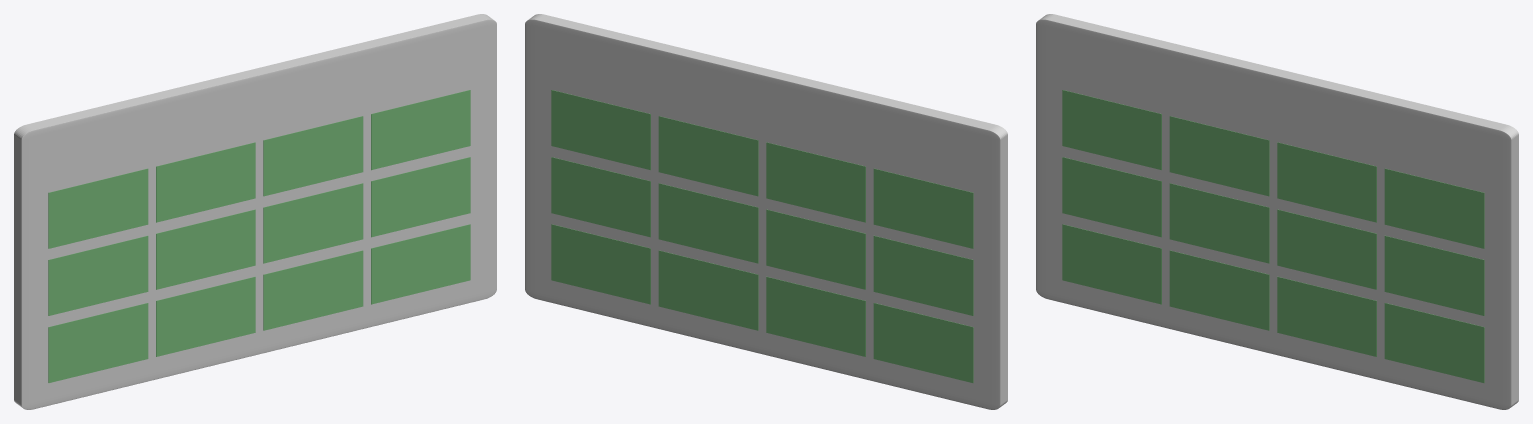
File: 41-Table Storage.glb
3 renders of one model, left to right at view 1: azimuth 30°, elevation 25°; view 2: azimuth 150°, elevation 25°; view 3: azimuth 330°, elevation 25°, orthographic.
Visible parts, largest first — view 1: Mesh_Mesh_head_geo.001_lambert2SG.001; view 2: Mesh_Mesh_head_geo.001_lambert2SG.001; view 3: Mesh_Mesh_head_geo.001_lambert2SG.001.
Part boxes in pixels (x1,y1,x2,y2): Mesh_Mesh_head_geo.001_lambert2SG.001: (14, 14, 496, 409); Mesh_Mesh_head_geo.001_lambert2SG.001: (525, 14, 1007, 409); Mesh_Mesh_head_geo.001_lambert2SG.001: (1036, 14, 1518, 409).
Size of the model in its own units: 98 by 55 by 3.
